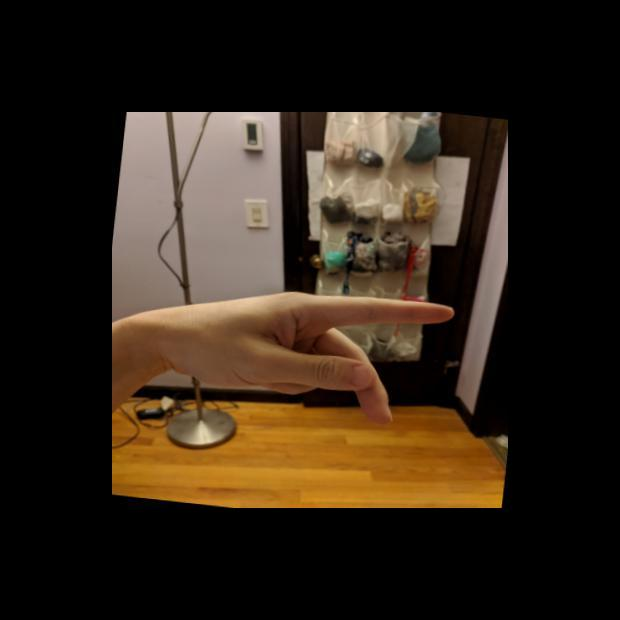O: (143, 267, 462, 433)
